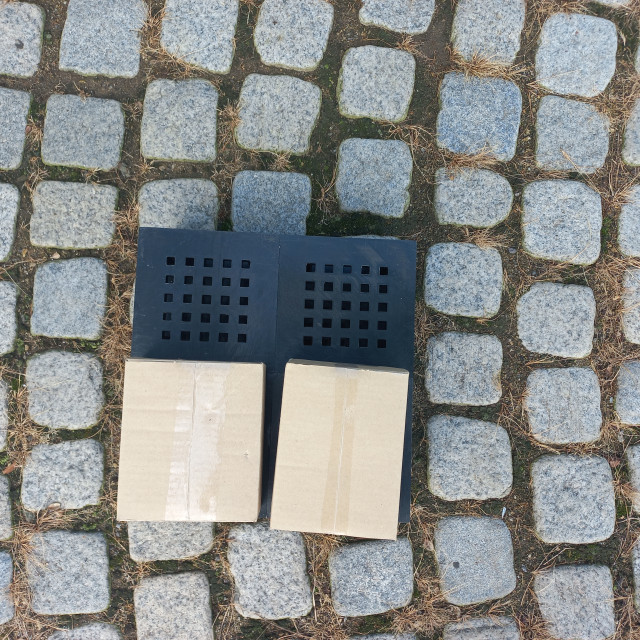box: (374, 116, 522, 283), (232, 100, 369, 279)
